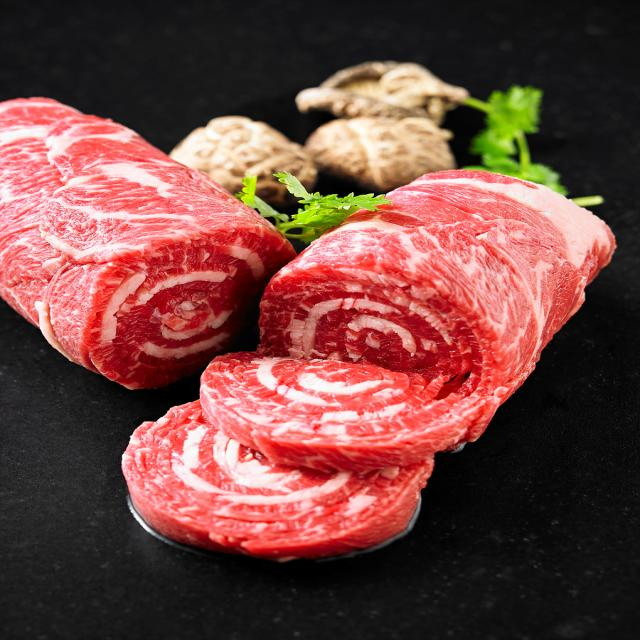beef: (304, 255, 501, 411), (60, 184, 211, 321)
